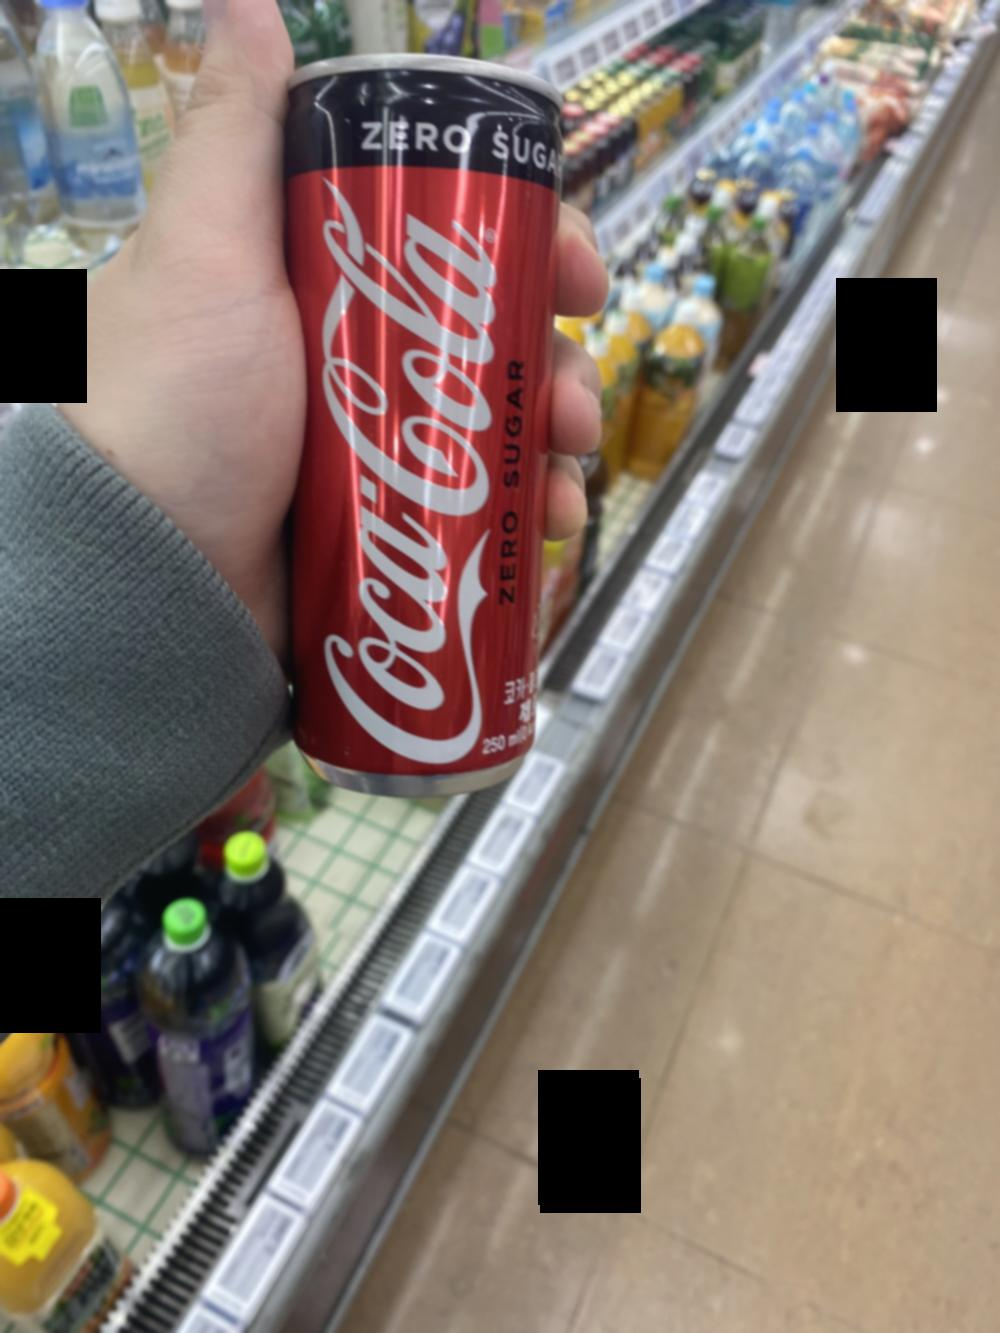cocacola_zero: (284, 64, 565, 792)
